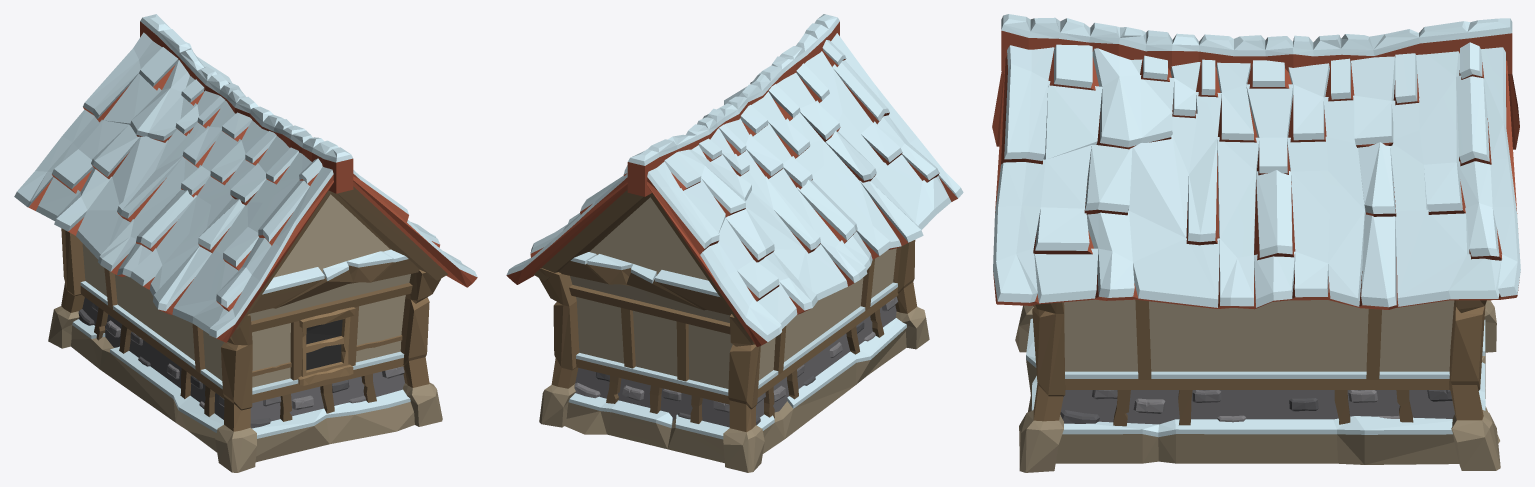
The model's file is SM_Bld_House_Room_05_Snow.gltf.
3 views of the same model, side by side, from view 1: azimuth 30°, elevation 25°; view 2: azimuth 150°, elevation 25°; view 3: azimuth 270°, elevation 25° (orthographic). The views are drawn at different scales.
Visible parts, largest first — view 1: SM_Bld_House_Room_05_Snow; view 2: SM_Bld_House_Room_05_Snow; view 3: SM_Bld_House_Room_05_Snow.
Part boxes in pixels (box(x1,y1,x2,y2)): SM_Bld_House_Room_05_Snow: box(14, 14, 477, 472); SM_Bld_House_Room_05_Snow: box(506, 14, 963, 472); SM_Bld_House_Room_05_Snow: box(992, 14, 1520, 472).
Size of the model in its own units: 5.04 by 5.16 by 6.38.
Materials: 1 (1 with a texture image).
